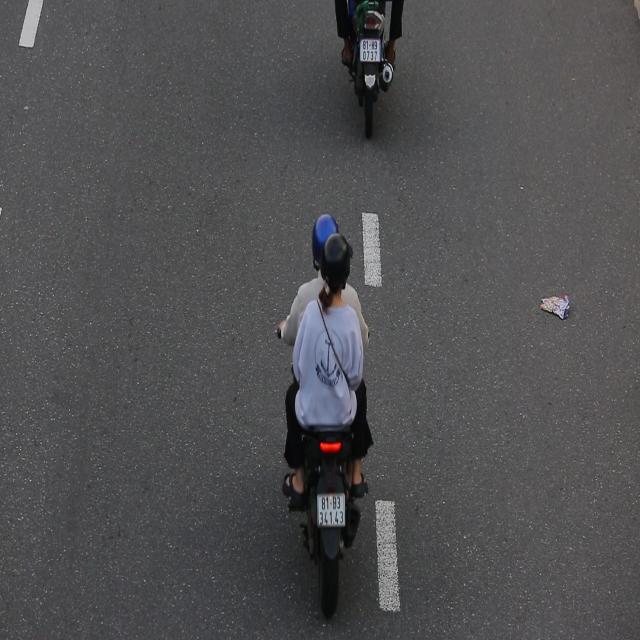motorbike: (267, 188, 382, 630)
